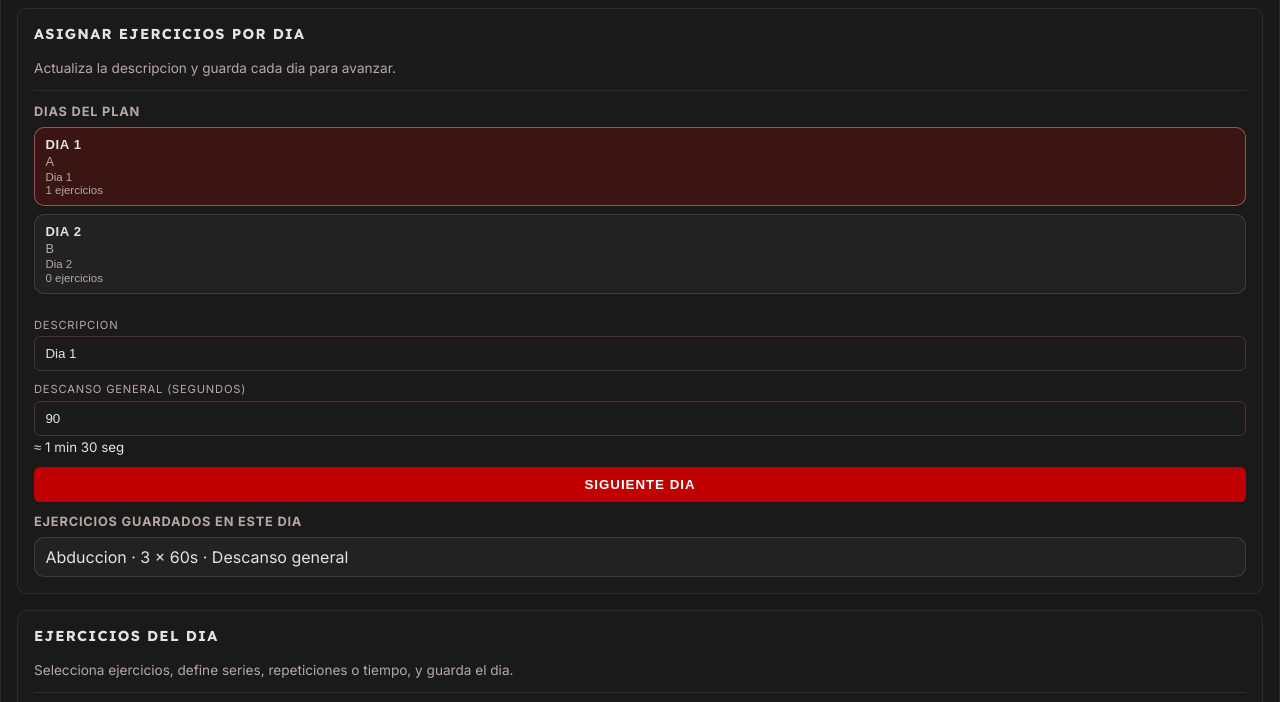
Scenario: navegar a otro dia y volver no pierde el descanso especifico del ejercicio (bug de fondo ya arreglado)
# Navega al dia 2 y de vuelta al dia 1.
Click the button "Dia 2 B Dia 2 0 ejercicios".
click(77, 278)  # box [34,214,1246,294]
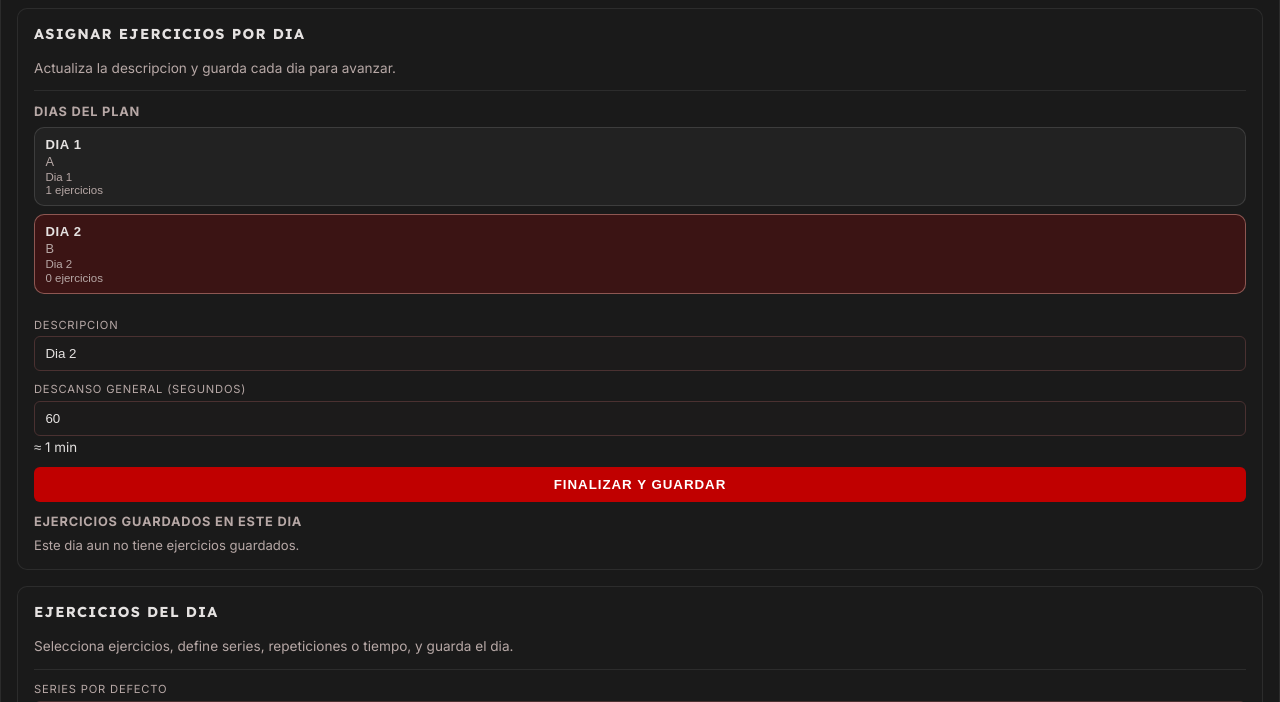
Click the button "Dia 1 A Dia 1 1 ejercicios".
click(77, 190)  # box [34,127,1246,206]
(page scrolled)
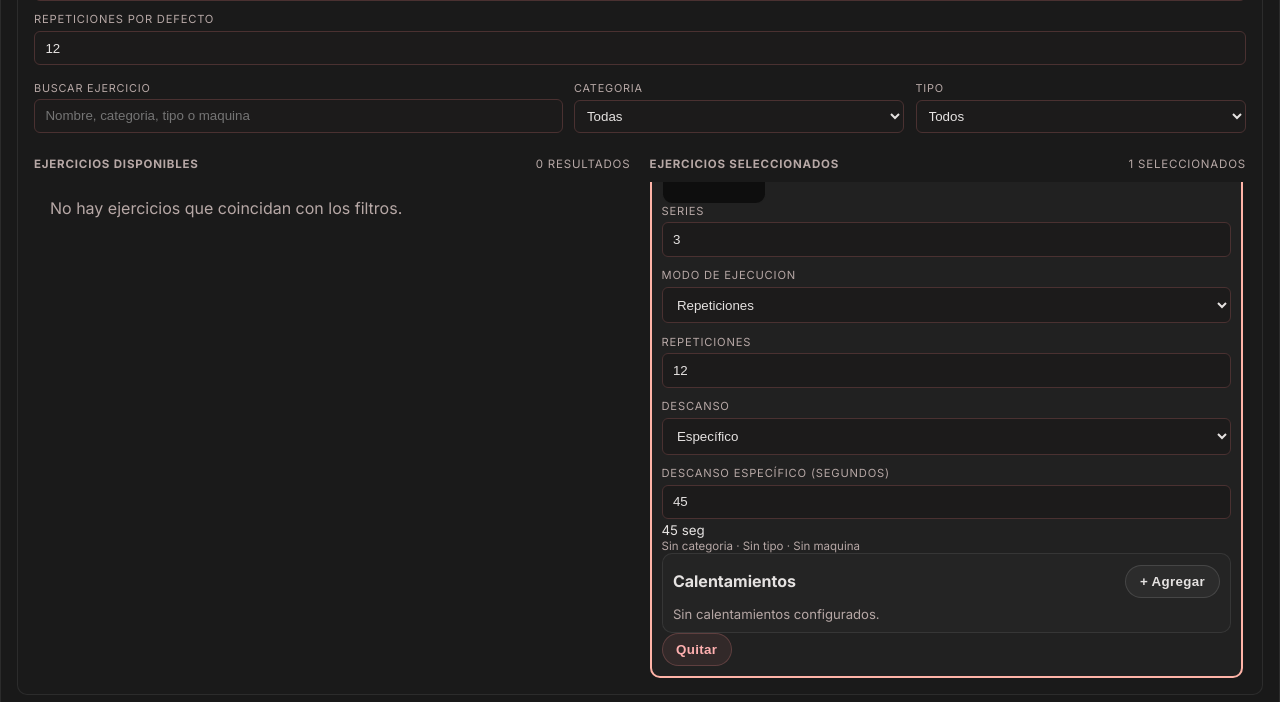
Check: the number field labelled "Descanso específico (segundos)" holds "45", box [662,485,1231,519]
